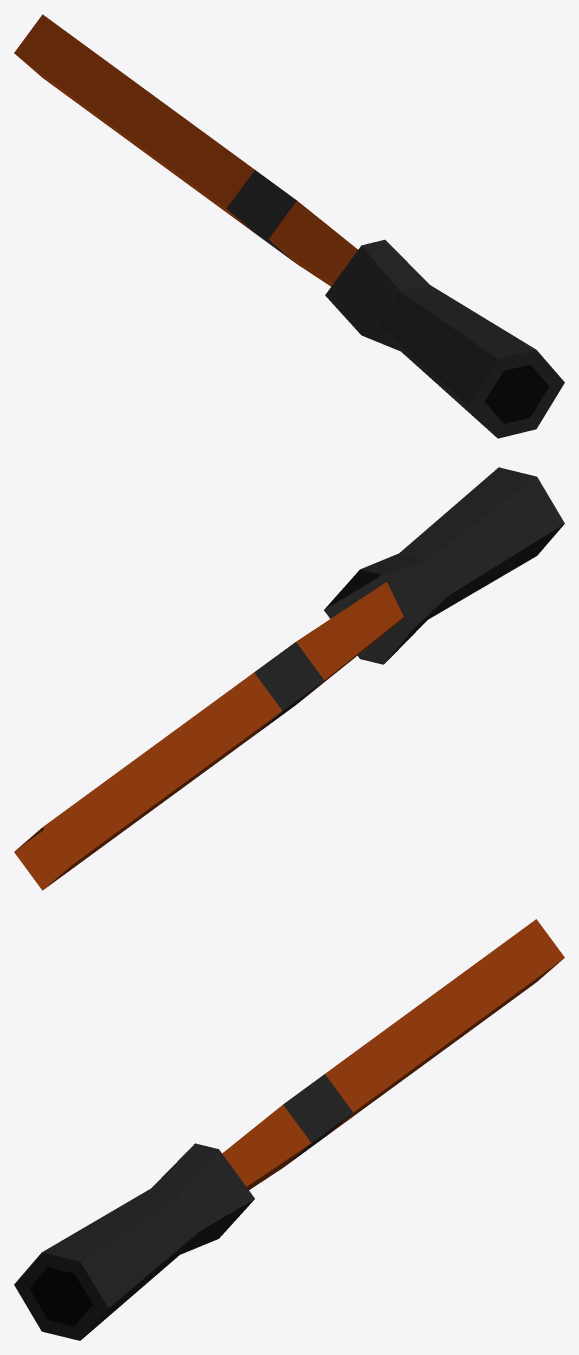
The model's file is hand_cannon.obj.
3 views of the same model, one above another, from view 1: azimuth 30°, elevation 25°; view 2: azimuth 150°, elevation 25°; view 3: azimuth 330°, elevation 25° (orthographic).
Parts seen in each view (by area): view 1: hand_cannon; view 2: hand_cannon; view 3: hand_cannon.
Boxes of the visible parts, <box> form: hand_cannon: <box>14,14,564,438</box>; hand_cannon: <box>14,467,564,890</box>; hand_cannon: <box>14,919,564,1340</box>.
Size of the model in its own units: 0.0456 by 0.041 by 0.3933.
